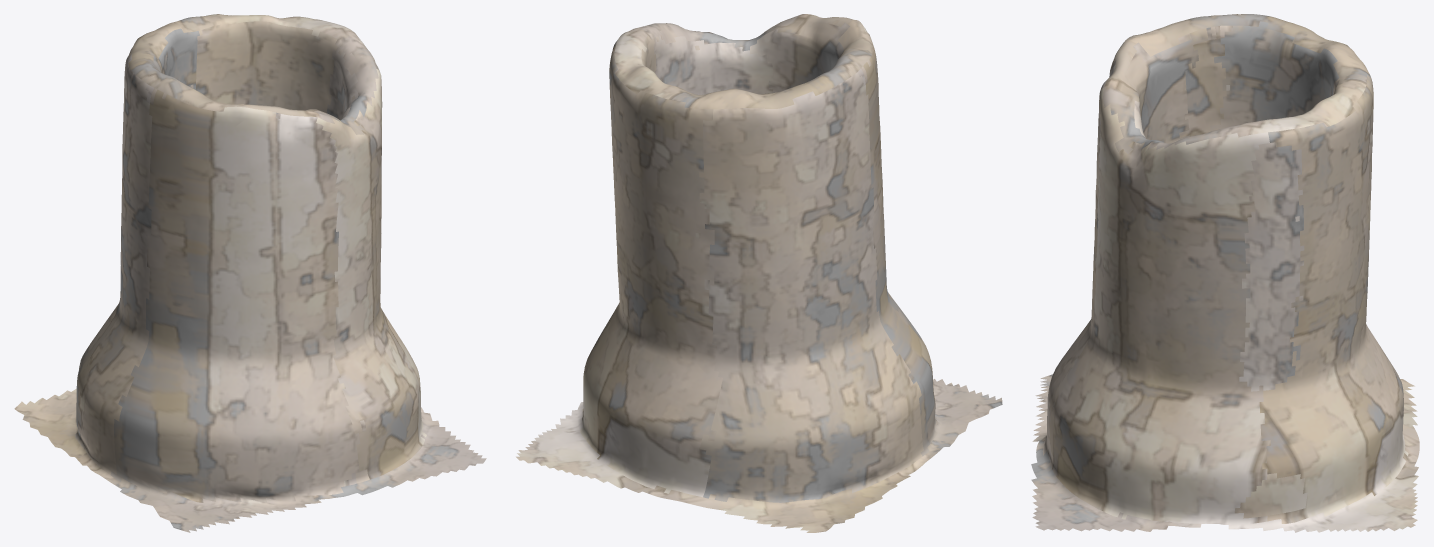
The model's file is BEACON.glb.
3 views of the same model, side by side, from view 1: azimuth 30°, elevation 25°; view 2: azimuth 150°, elevation 25°; view 3: azimuth 270°, elevation 25° (orthographic). The views are drawn at different scales.
Parts seen in each view (by area): view 1: 3DModel_Retopo; view 2: 3DModel_Retopo; view 3: 3DModel_Retopo.
Boxes of the visible parts, x1=… form: 3DModel_Retopo: x1=14, y1=14, x2=486, y2=532; 3DModel_Retopo: x1=516, y1=14, x2=1002, y2=532; 3DModel_Retopo: x1=1031, y1=14, x2=1419, y2=532.
Bounding box in the file's own units: 1.42 × 1.67 × 1.47.
1 material, 1 textured.
